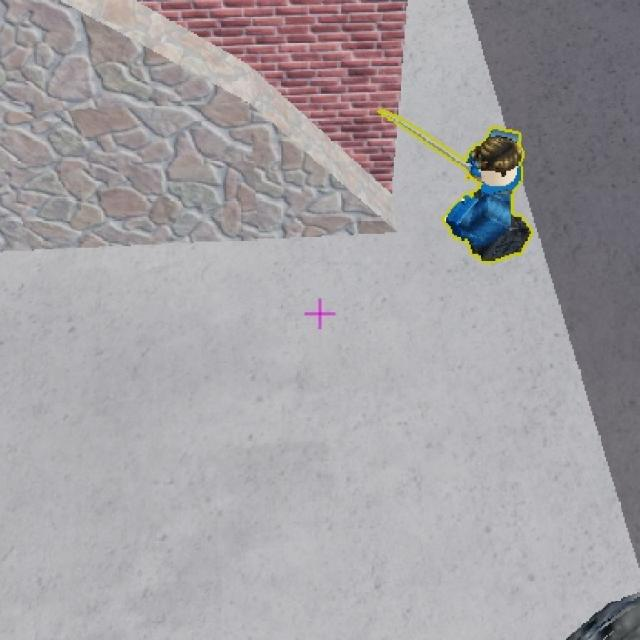player: (448, 125, 545, 268)
